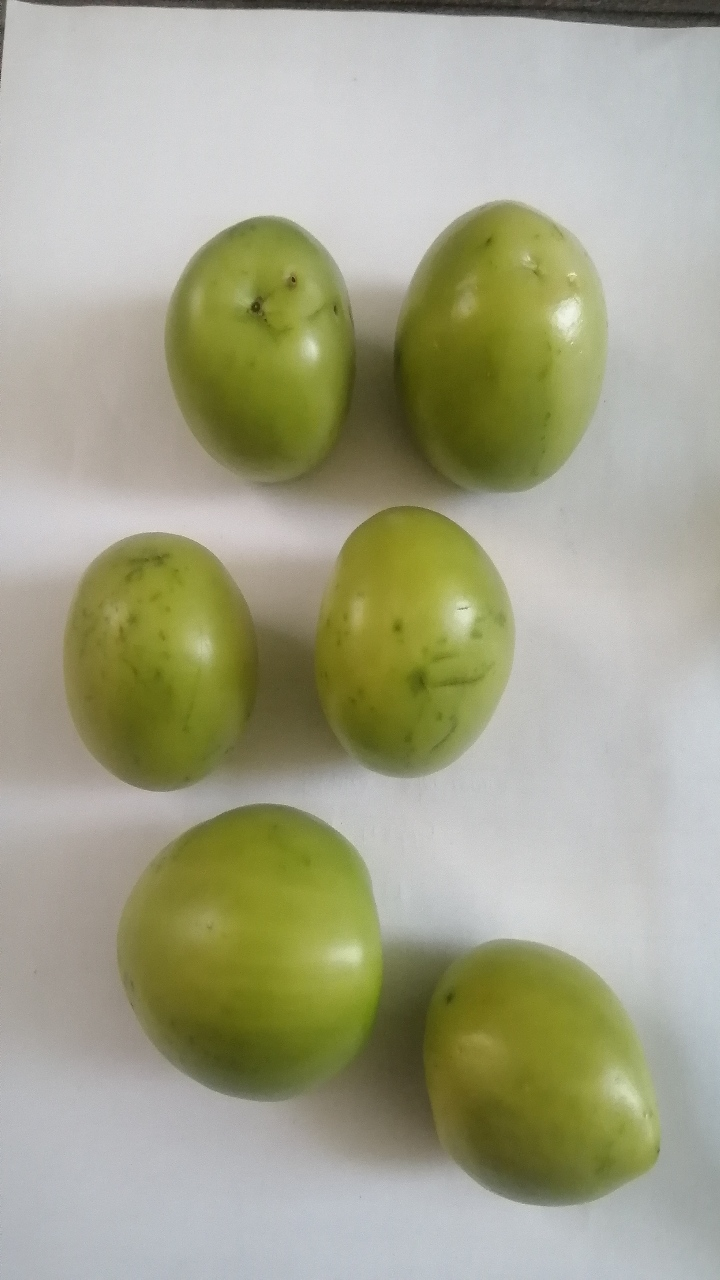tomateVerde: (81, 786, 411, 1128), (409, 909, 681, 1225), (375, 174, 621, 523), (286, 486, 544, 789), (43, 512, 264, 808), (148, 197, 360, 503)
